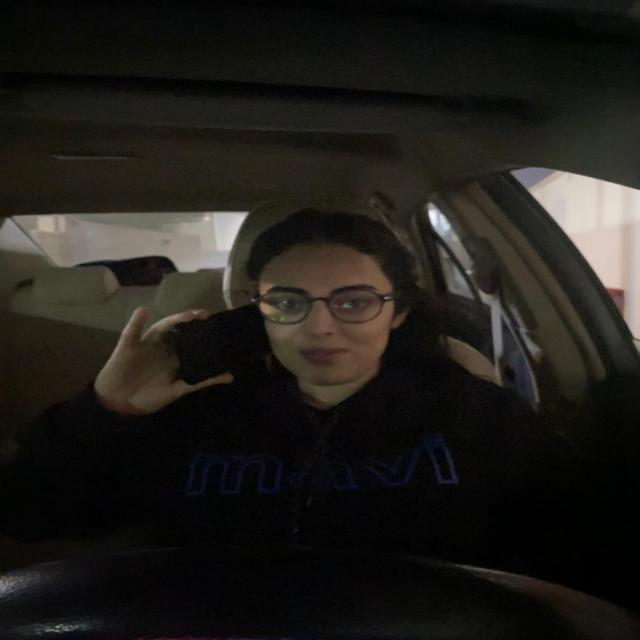mobile: (164, 297, 271, 384)
person: (247, 228, 409, 386)
